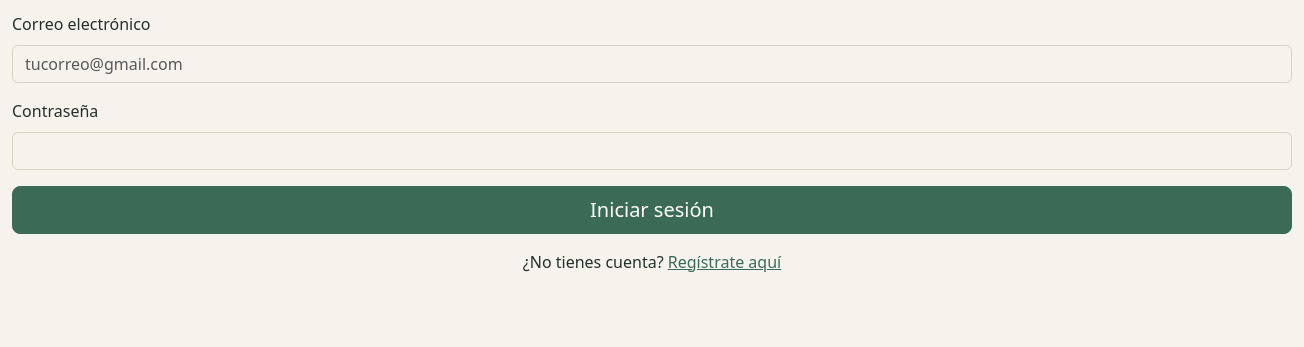
organismo FormularioLogin › avisa si el correo o la contraseña son incorrectos
Step 1. Type "ana@gmail.com" into the field labelled "Correo electrónico" → {"x": 652, "y": 64}, box [12, 45, 1292, 83]
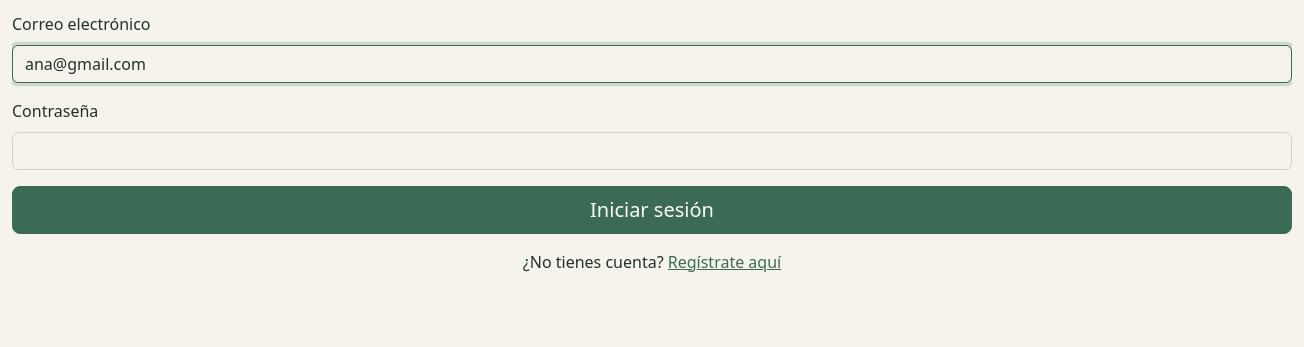
Step 2. Type "mala1" into the password field labelled "Contraseña" → {"x": 652, "y": 151}, box [12, 132, 1292, 170]
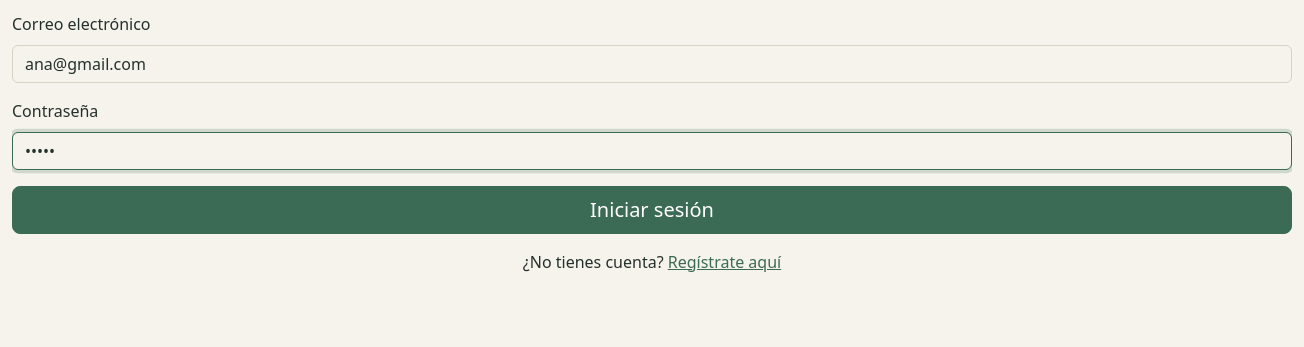
Step 3. Click the button "Iniciar sesión" → {"x": 652, "y": 210}, box [12, 186, 1292, 234]
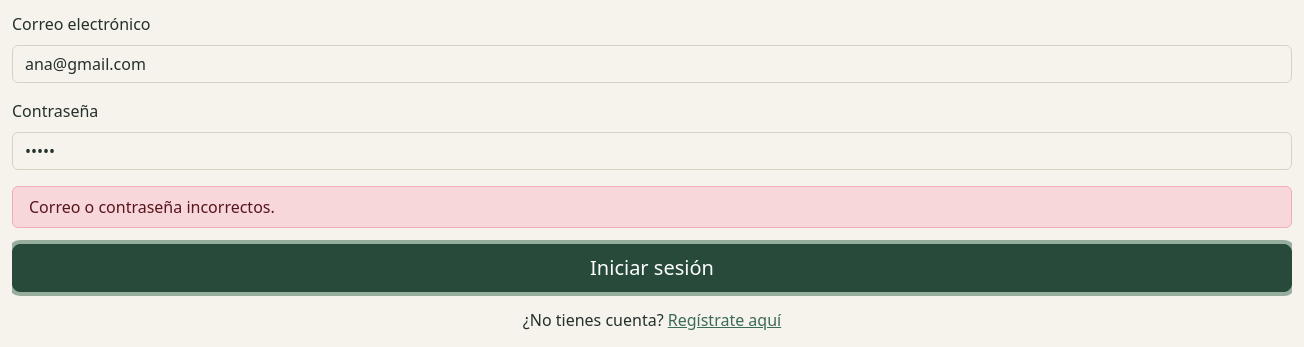
Result: the message reads "Correo o contraseña incorrectos." at [29, 196, 275, 218]
